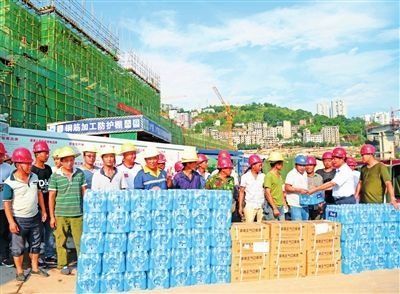blue: (294, 154, 307, 173)
red: (12, 148, 34, 174), (31, 141, 50, 165), (216, 156, 233, 178), (360, 144, 376, 164), (247, 154, 263, 174), (332, 147, 346, 167), (321, 150, 334, 169), (197, 153, 209, 171), (305, 155, 316, 173)
yellow: (119, 141, 138, 165), (98, 145, 116, 169), (179, 151, 198, 172), (59, 147, 76, 169), (82, 145, 98, 167), (143, 147, 159, 169), (269, 151, 284, 171)
